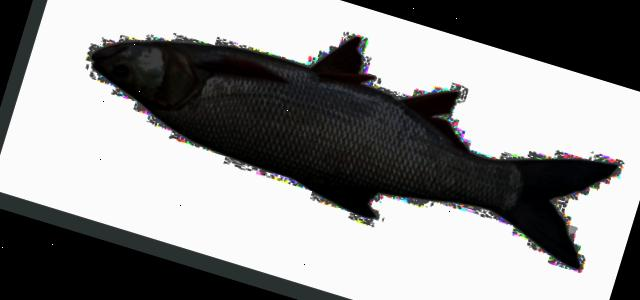Healthy Fish: (93, 37, 616, 267)
